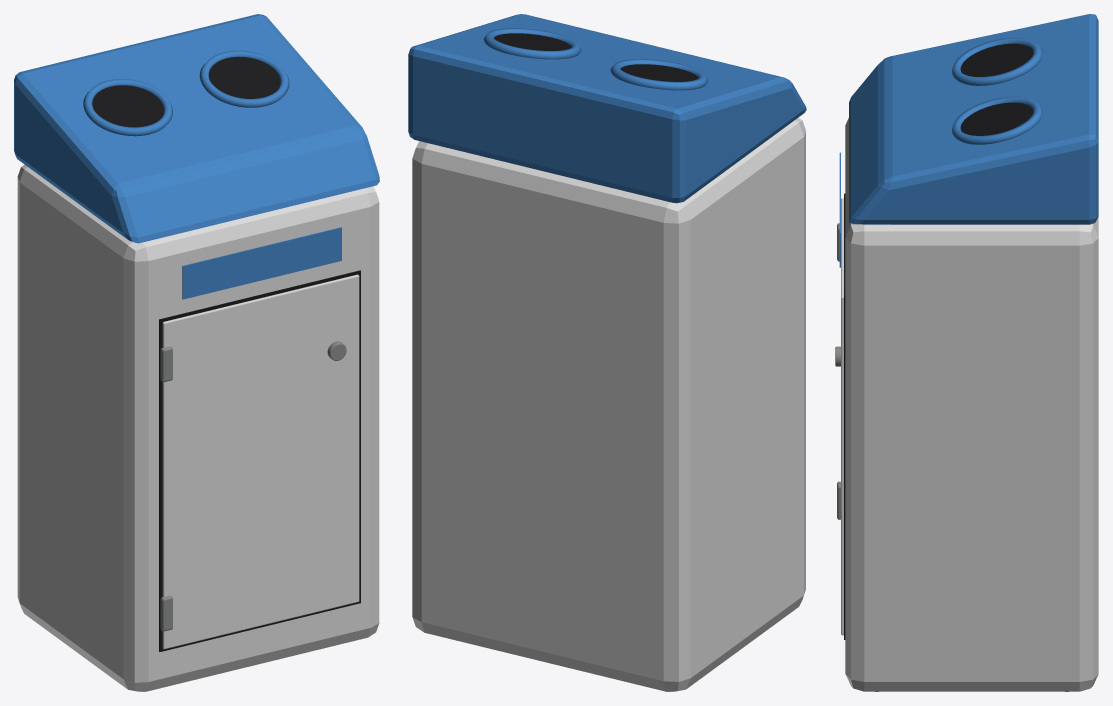
File: city-bottle-can-recycling-bin.glb
The picture shows the model from 3 angles, left to right: view 1: azimuth 30°, elevation 25°; view 2: azimuth 150°, elevation 25°; view 3: azimuth 270°, elevation 25°; orthographic projection. The views are drawn at different scales.
Visible parts, largest first — view 1: Assembly | White rotomoulded polyethylene, Assembly | Blue polyethylene lid, Assembly | Opening shadow, Assembly | Grey lock and hinge; view 2: Assembly | White rotomoulded polyethylene, Assembly | Blue polyethylene lid, Assembly | Opening shadow; view 3: Assembly | White rotomoulded polyethylene, Assembly | Blue polyethylene lid, Assembly | Opening shadow.
Boxes of the visible parts, bbox=[...] form: Assembly | White rotomoulded polyethylene: bbox=[17, 164, 379, 691]; Assembly | Blue polyethylene lid: bbox=[14, 14, 379, 299]; Assembly | Opening shadow: bbox=[92, 56, 360, 651]; Assembly | Grey lock and hinge: bbox=[160, 341, 346, 631]; Assembly | White rotomoulded polyethylene: bbox=[412, 117, 805, 691]; Assembly | Blue polyethylene lid: bbox=[408, 14, 806, 203]; Assembly | Opening shadow: bbox=[494, 33, 698, 81]; Assembly | White rotomoulded polyethylene: bbox=[841, 118, 1098, 691]; Assembly | Blue polyethylene lid: bbox=[839, 14, 1098, 267]; Assembly | Opening shadow: bbox=[844, 43, 1033, 639].
Bounding box in the file's own units: 0.48 × 0.9766 × 0.416.
